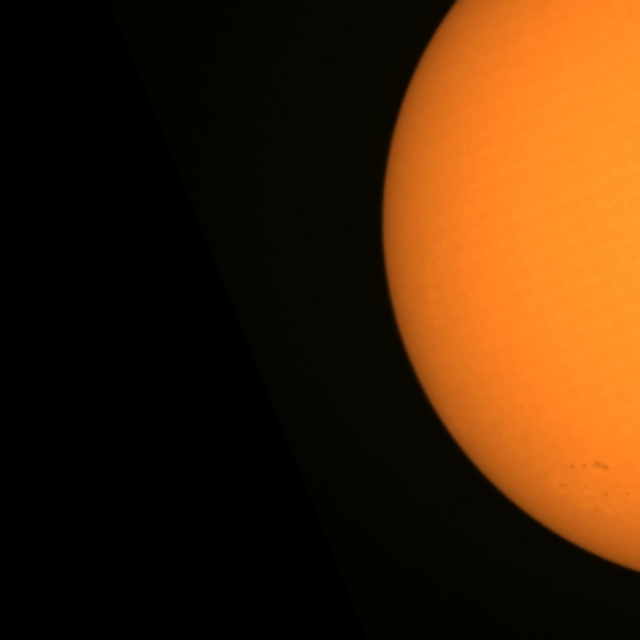sunspot: (568, 459, 612, 474)
